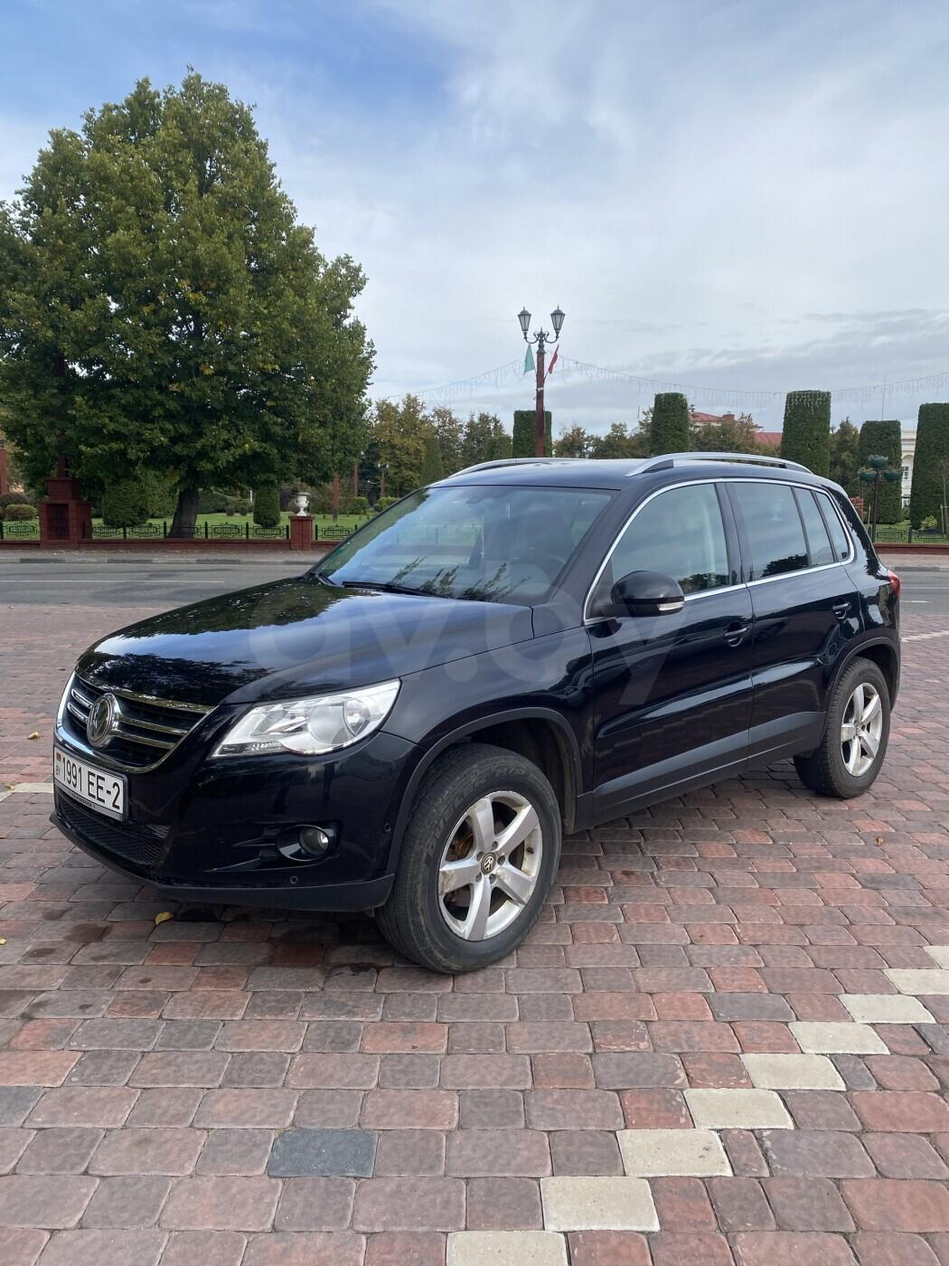Tiguan_2007-2011: (51, 449, 906, 978)
